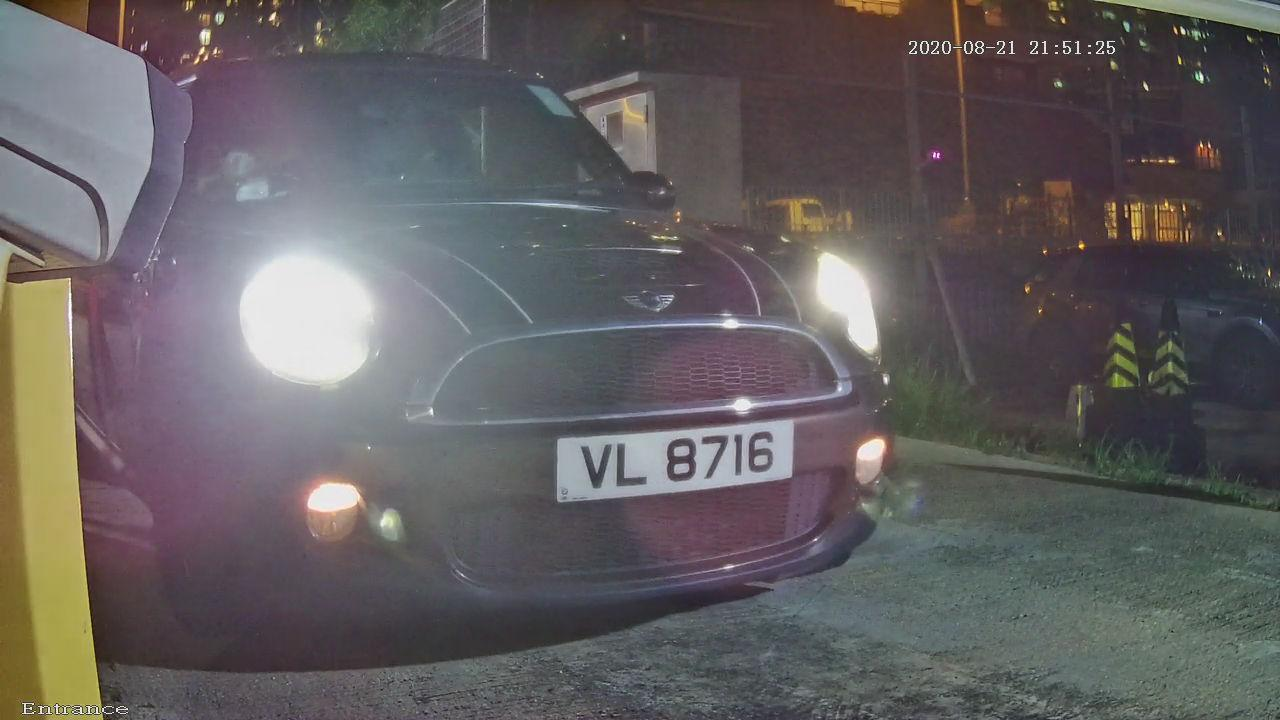Car: (23, 7, 978, 679)
License Plate: (532, 415, 823, 502)
